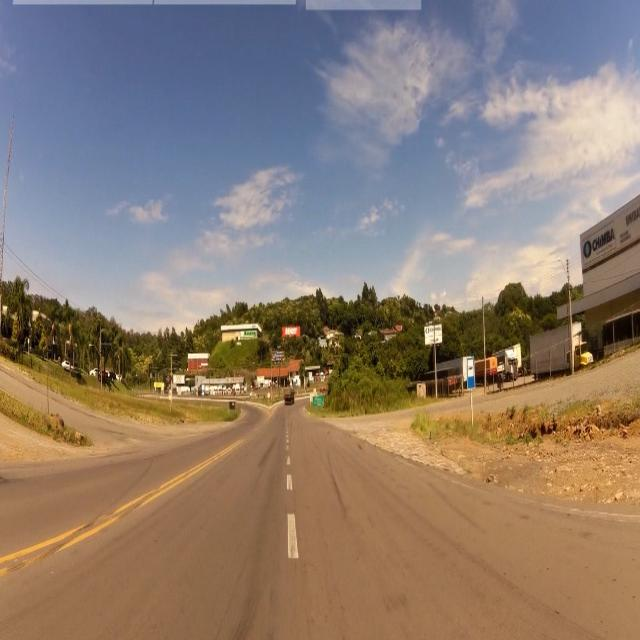S-14: (466, 356, 476, 389)
